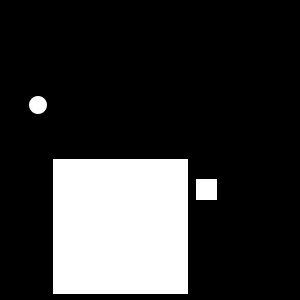circle: (53, 159, 188, 294), (196, 179, 217, 200)
rectangle: (29, 96, 47, 114)
